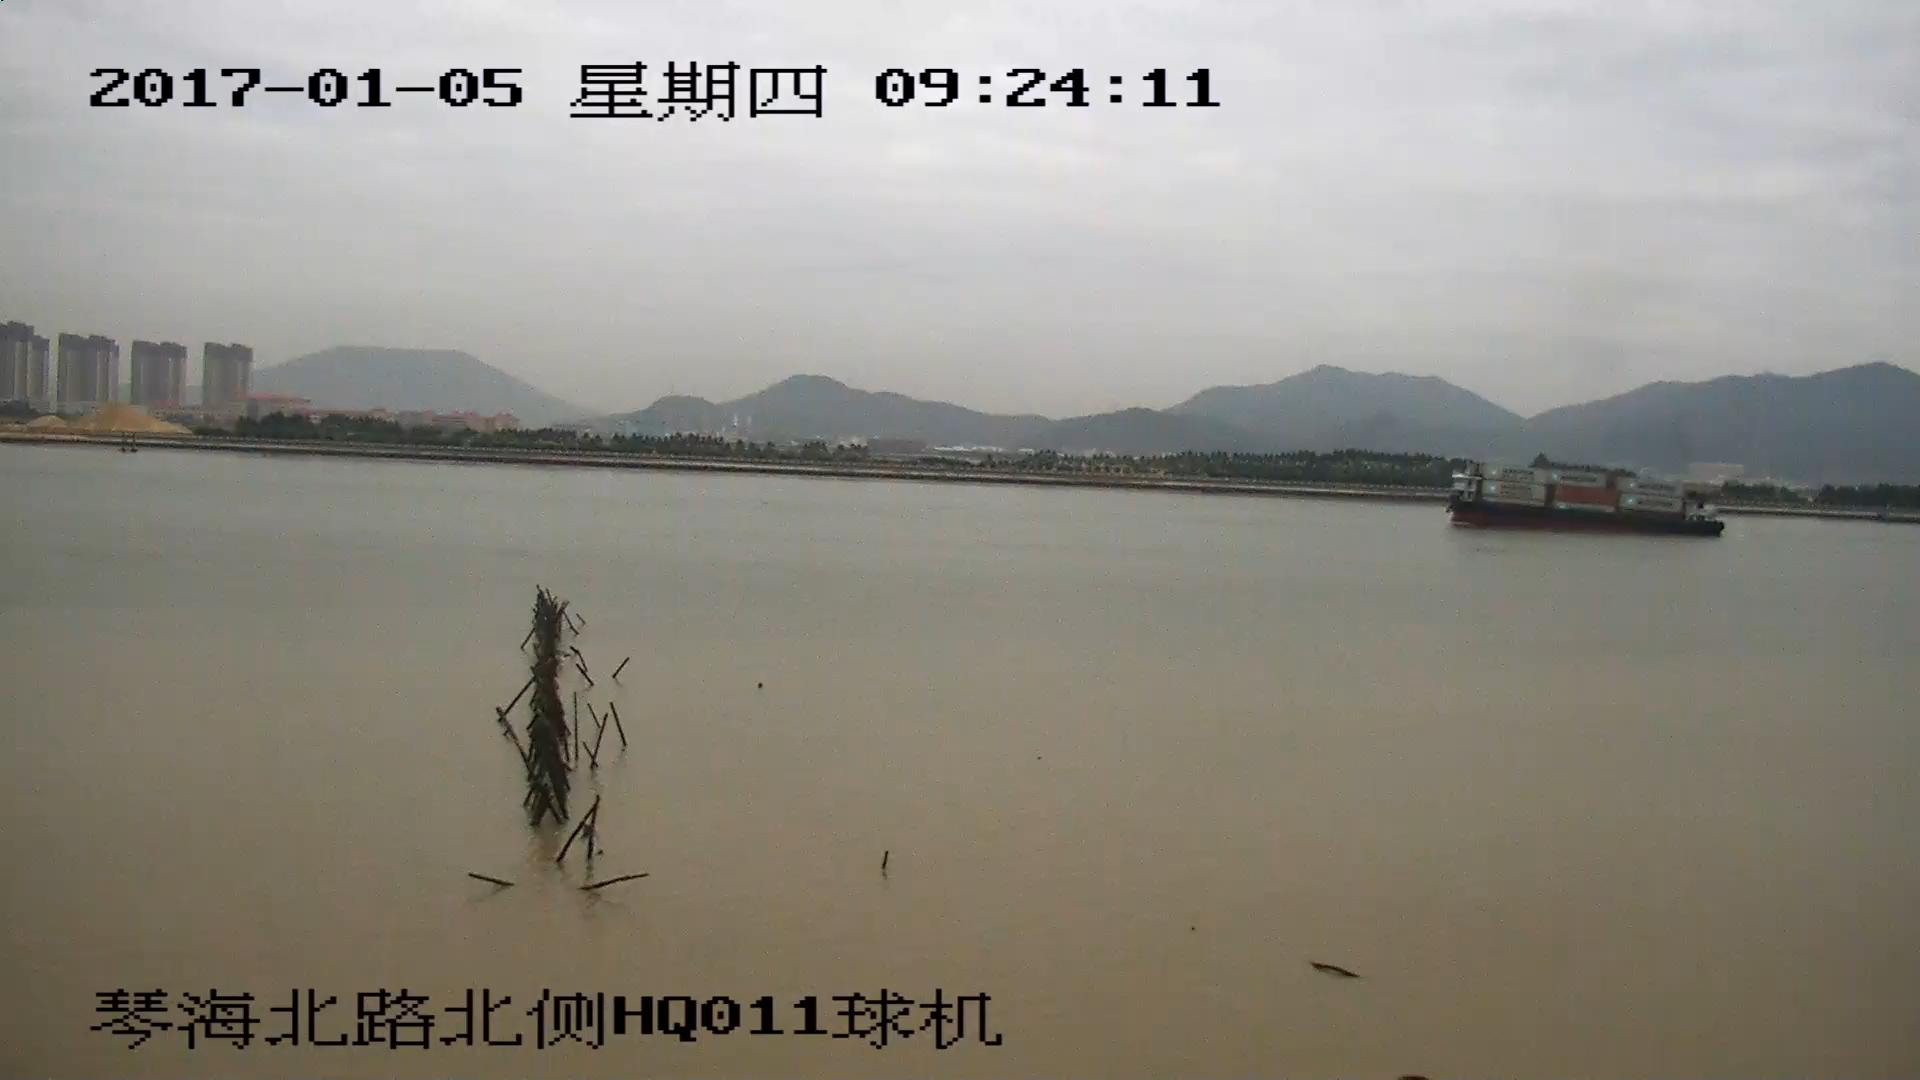container ship: (1451, 466, 1720, 531)
